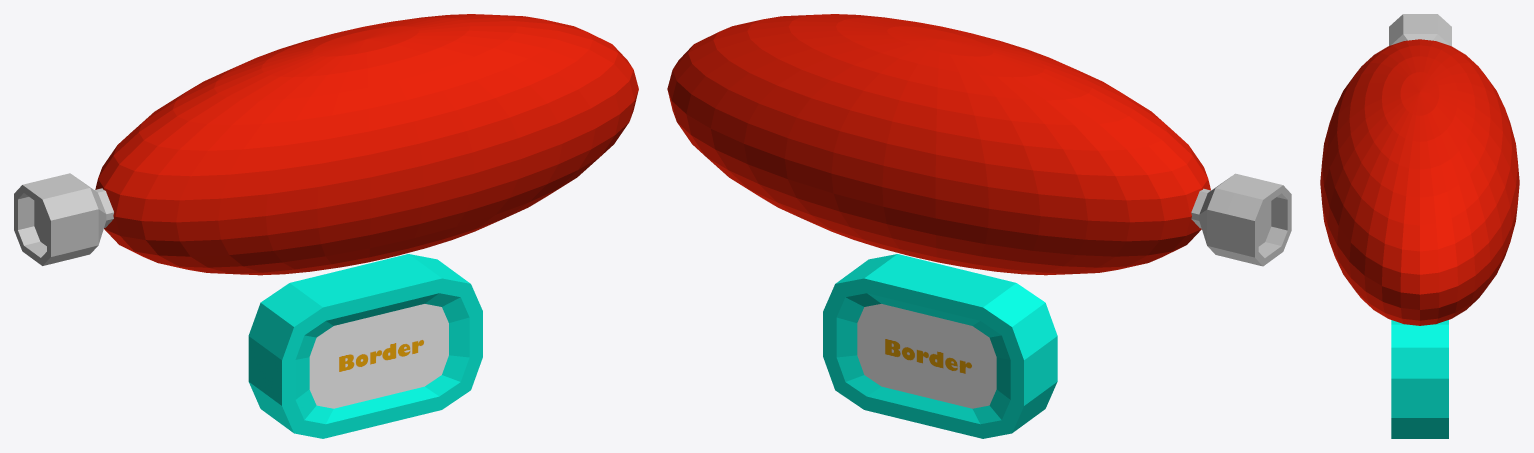
The model's file is floatingBBorder.glb.
3 views of the same model, side by side, from view 1: azimuth 30°, elevation 25°; view 2: azimuth 150°, elevation 25°; view 3: azimuth 270°, elevation 25° (orthographic). The views are drawn at different scales.
Visible parts, largest first — view 1: Cube.012; view 2: Cube.012; view 3: Cube.012.
Part boxes in pixels (x1,y1,x2,y2): Cube.012: (14,14,638,438); Cube.012: (667,14,1291,438); Cube.012: (1320,14,1519,438).
Bounding box in the file's own units: 17.34 × 10.29 × 5.81.
4 materials, 1 textured.
